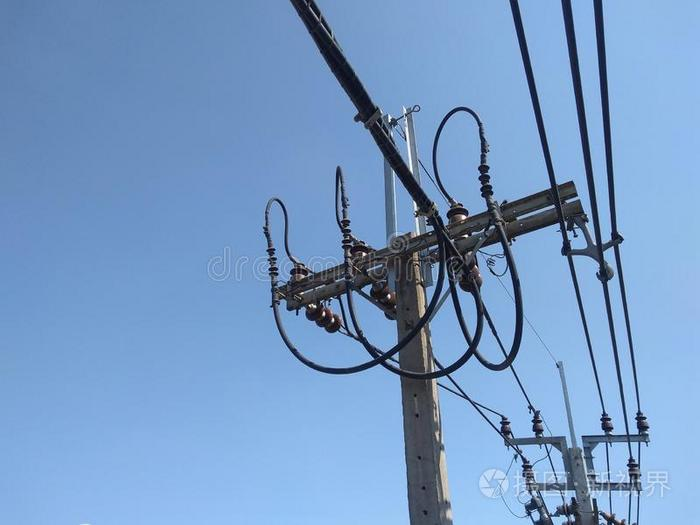insulator: (304, 305, 342, 336), (372, 284, 400, 321)
